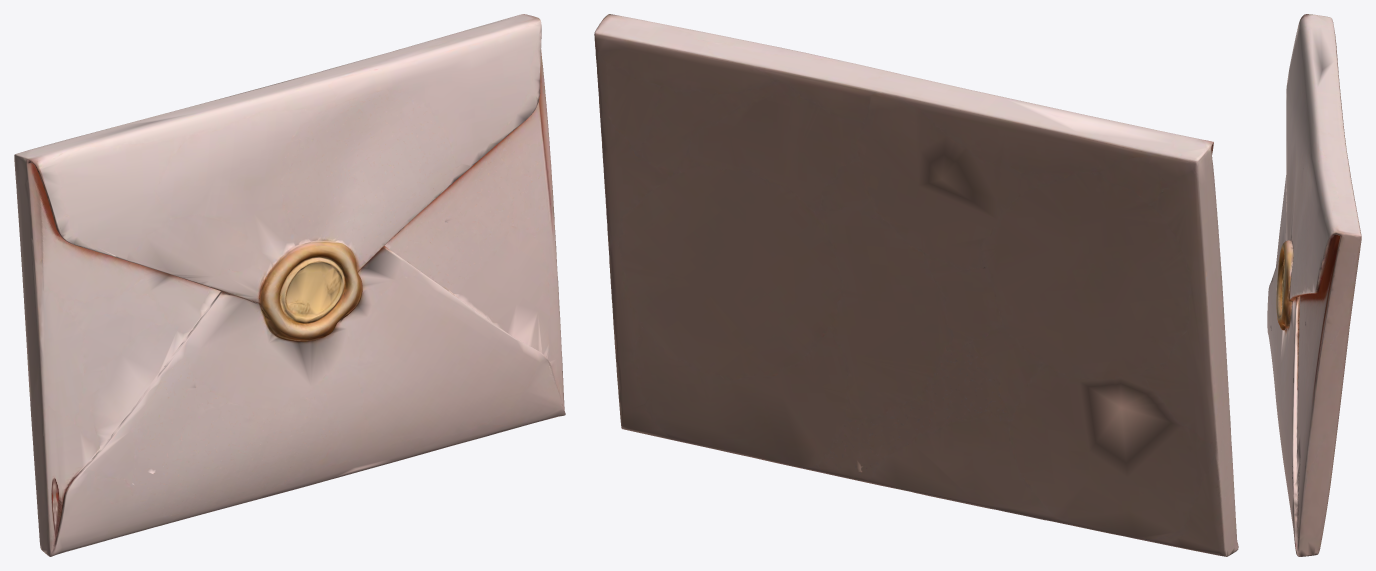
The model's file is envelope2.glb.
The picture shows the model from 3 angles, left to right: view 1: azimuth 30°, elevation 25°; view 2: azimuth 150°, elevation 25°; view 3: azimuth 270°, elevation 25°; orthographic projection. The views are drawn at different scales.
Visible parts, largest first — view 1: node_0; view 2: node_0; view 3: node_0.
Boxes of the visible parts, left/top/right/bottom form: node_0: left=14, top=14, right=565, bottom=556; node_0: left=594, top=14, right=1238, bottom=556; node_0: left=1267, top=14, right=1361, bottom=556.
Size of the model in its own units: 0.9816 by 0.6741 by 0.1782.
1 material, 1 textured.
